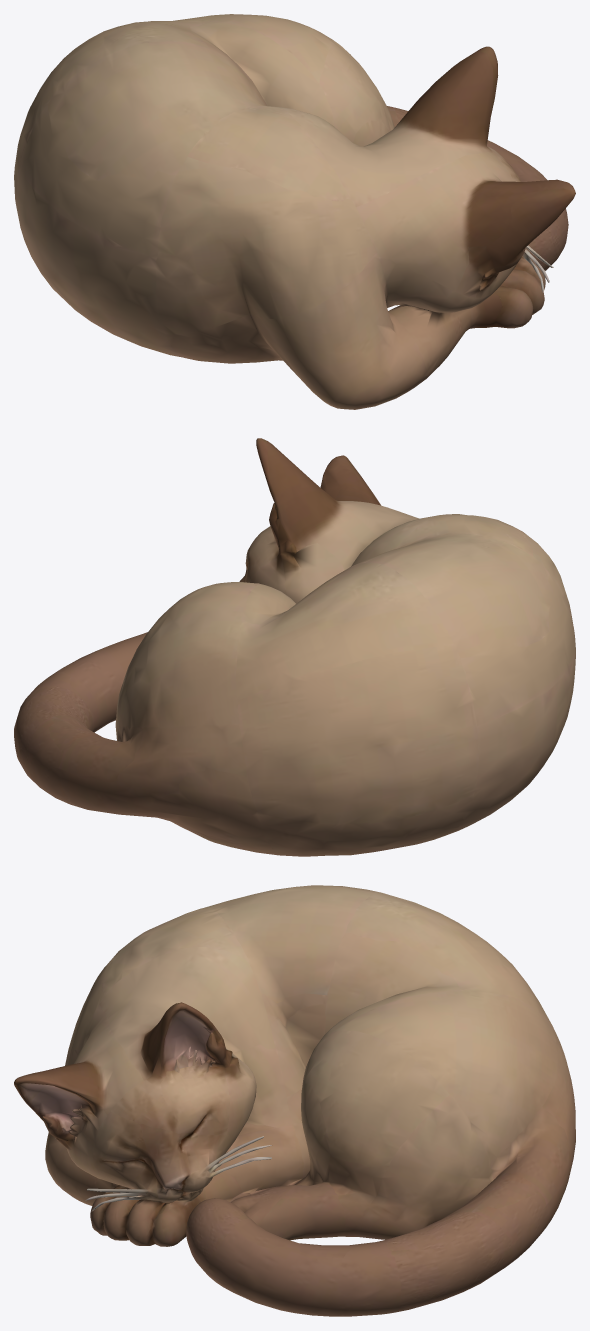
Rendered from cat-sleep.glb.
3 renders of one model, top to bottom at view 1: azimuth 30°, elevation 25°; view 2: azimuth 150°, elevation 25°; view 3: azimuth 270°, elevation 25°, orthographic. The views are drawn at different scales.
Parts seen in each view (by area): view 1: tripo_node_4269d2dd-adf6-4d24-afdf-0679bcb70a61; view 2: tripo_node_4269d2dd-adf6-4d24-afdf-0679bcb70a61; view 3: tripo_node_4269d2dd-adf6-4d24-afdf-0679bcb70a61.
Boxes of the visible parts, x1,y1,x2,y2 form: tripo_node_4269d2dd-adf6-4d24-afdf-0679bcb70a61: [14, 14, 575, 409]; tripo_node_4269d2dd-adf6-4d24-afdf-0679bcb70a61: [14, 438, 575, 856]; tripo_node_4269d2dd-adf6-4d24-afdf-0679bcb70a61: [14, 885, 575, 1316].
Bounding box in the file's own units: 0.9861 × 0.5123 × 0.9992.
1 material, 1 textured.
